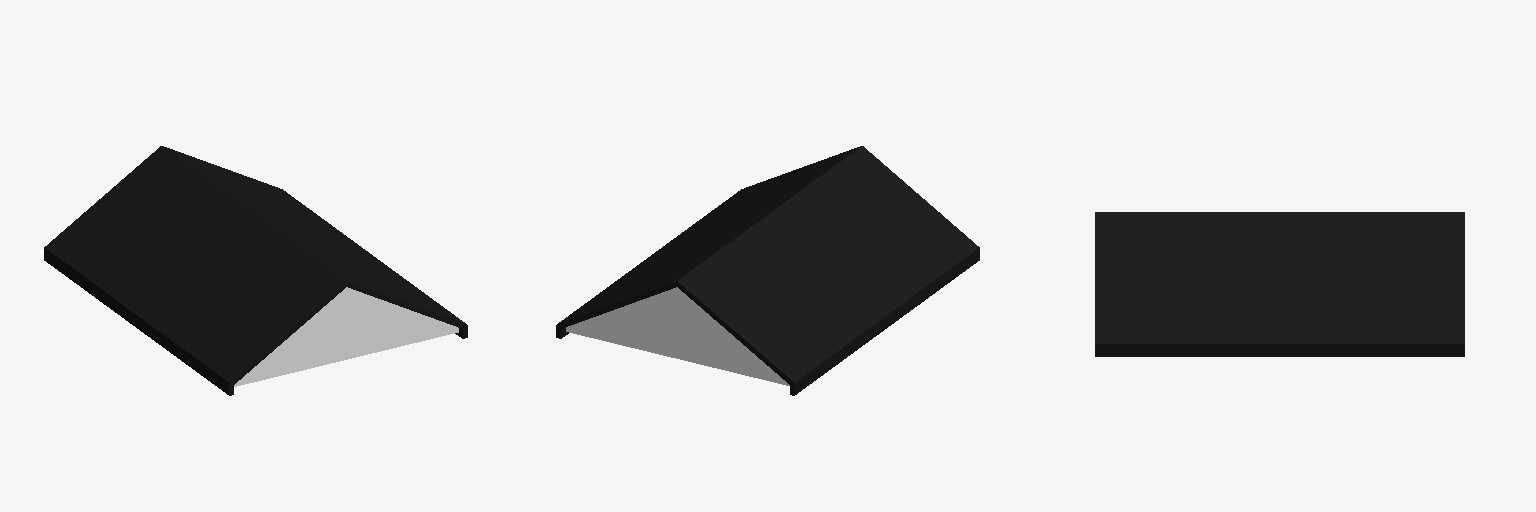
Rendered from Roof1.obj.
3 renders of one model, left to right at view 1: azimuth 30°, elevation 25°; view 2: azimuth 150°, elevation 25°; view 3: azimuth 270°, elevation 25°, orthographic.
Parts seen in each view (by area): view 1: Roof1; view 2: Roof1; view 3: Roof1.
Part boxes in pixels (left/top/right/bottom): Roof1: left=44, top=146, right=467, bottom=395; Roof1: left=556, top=146, right=979, bottom=395; Roof1: left=1095, top=212, right=1464, bottom=356.
Bounding box in the file's own units: 7.4 × 2.56 × 9.96.